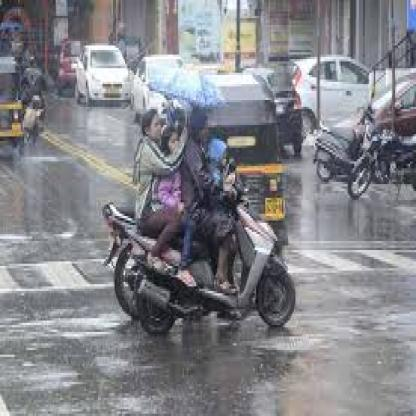car: (291, 50, 399, 142), (71, 38, 137, 111)
